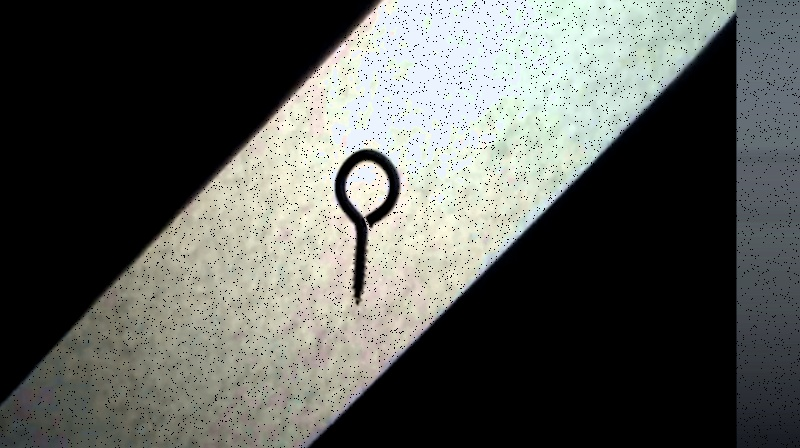O001: (333, 148, 403, 310)
